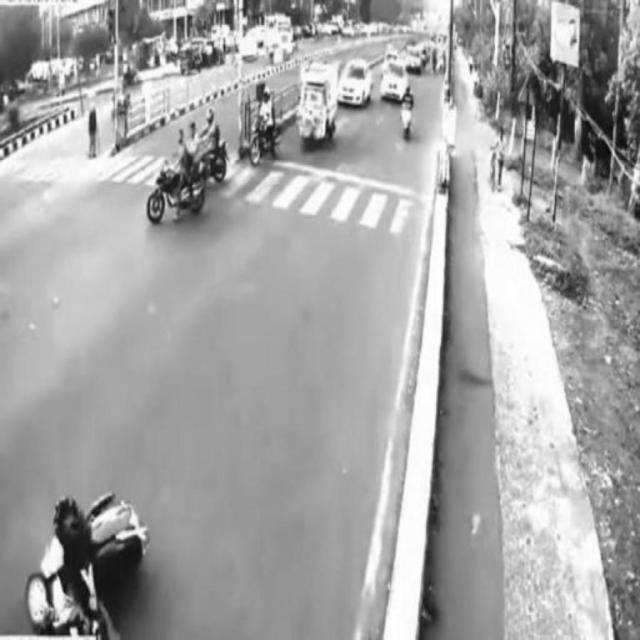vehicle: (144, 132, 208, 222), (290, 66, 340, 147), (249, 91, 290, 162), (337, 61, 372, 107)
